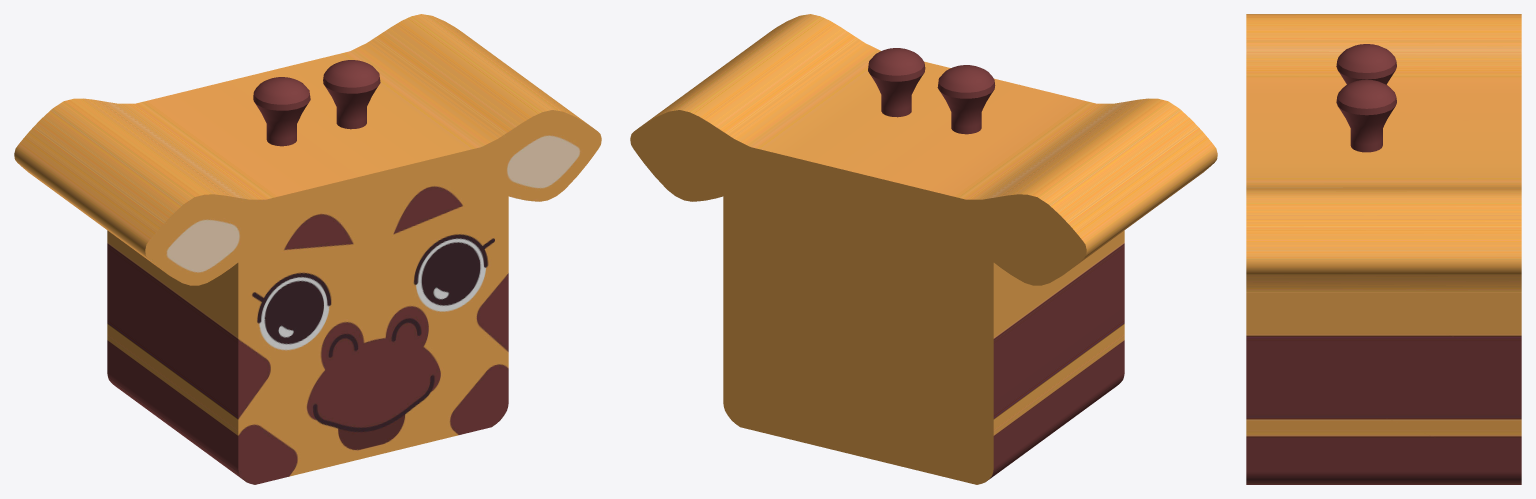
Rendered from Giraffe.obj.
3 renders of one model, left to right at view 1: azimuth 30°, elevation 25°; view 2: azimuth 150°, elevation 25°; view 3: azimuth 270°, elevation 25°, orthographic. The views are drawn at different scales.
Parts seen in each view (by area): view 1: Giraffe; view 2: Giraffe; view 3: Giraffe.
Part boxes in pixels (x1,y1,x2,y2): Giraffe: [14, 14, 601, 484]; Giraffe: [630, 14, 1217, 484]; Giraffe: [1246, 14, 1521, 484].
Bounding box in the file's own units: 9.04 × 6.46 × 4.49.
